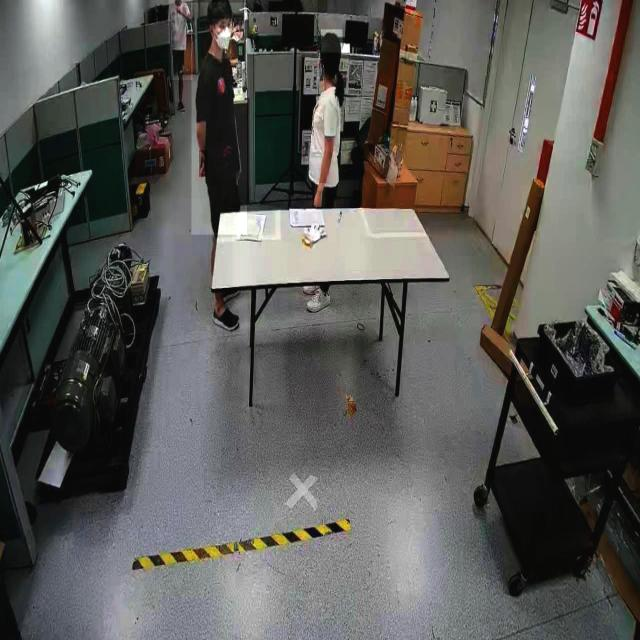face_mask: (212, 18, 232, 59)
hand_noglove: (314, 183, 326, 208), (198, 150, 208, 178)
head_nohelmet: (320, 30, 342, 54), (207, 0, 233, 13)
person: (191, 2, 247, 236), (304, 46, 348, 206), (168, 0, 192, 81)
shoes: (211, 300, 241, 337), (304, 287, 334, 315)
